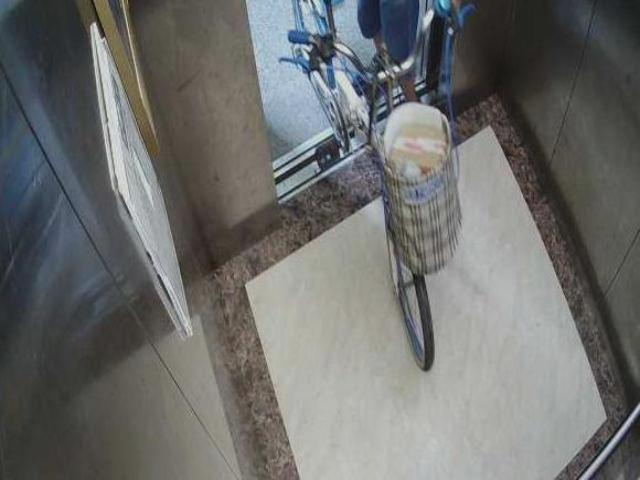bicycle: (289, 9, 465, 370)
